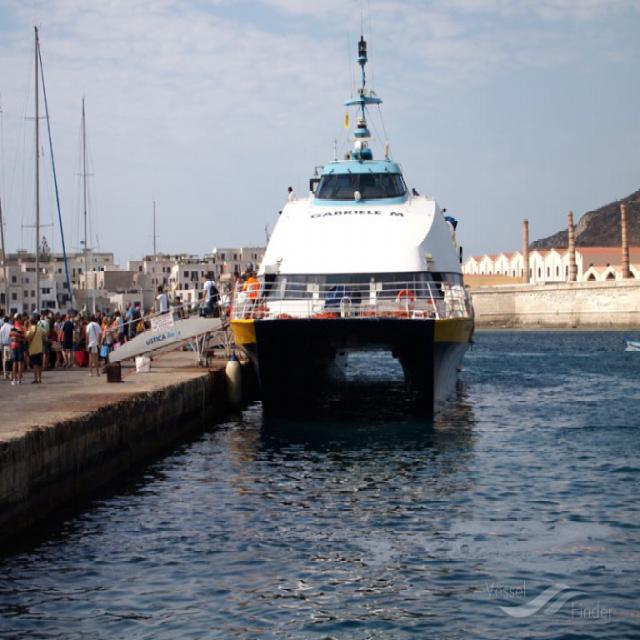Passenger Ship: (251, 153, 469, 412)
